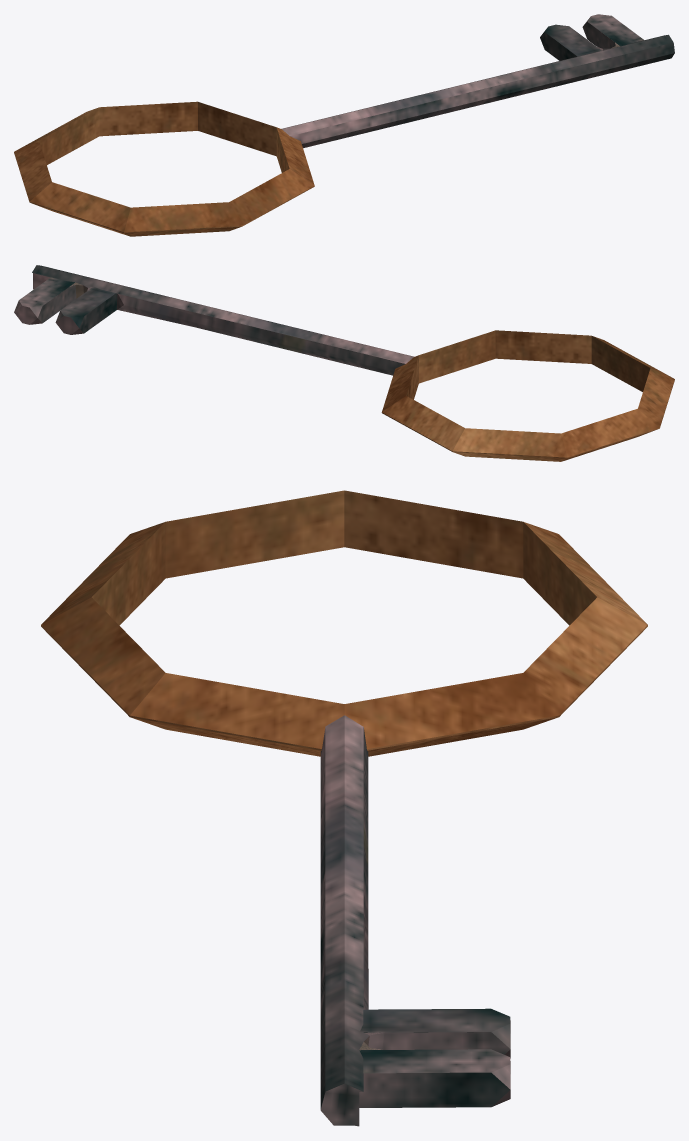
The model's file is ShedKey.fbx.
3 views of the same model, one above another, from view 1: azimuth 30°, elevation 25°; view 2: azimuth 150°, elevation 25°; view 3: azimuth 270°, elevation 25° (orthographic). The views are drawn at different scales.
Visible parts, largest first — view 1: KeyHandle, Key; view 2: KeyHandle, Key; view 3: KeyHandle, Key.
Part boxes in pixels (bbox=[...]): KeyHandle: bbox=[14, 101, 314, 236]; Key: bbox=[281, 14, 674, 148]; KeyHandle: bbox=[381, 330, 674, 461]; Key: bbox=[14, 265, 414, 375]; KeyHandle: bbox=[41, 490, 647, 756]; Key: bbox=[320, 715, 510, 1126].
Bounding box in the file's own units: 474 × 20.65 × 200.
